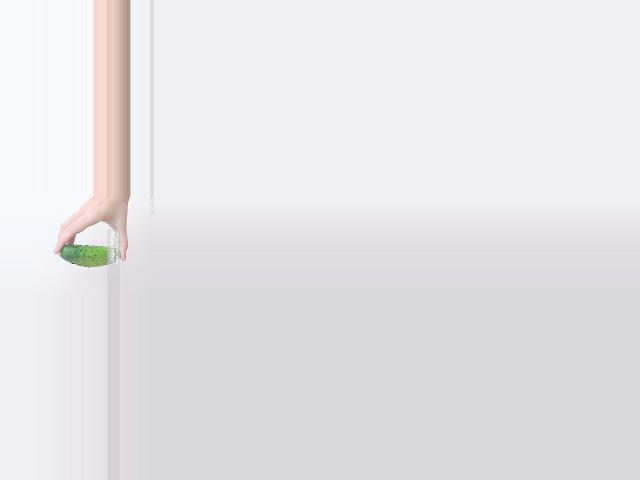cucumber: (60, 245, 120, 268)
